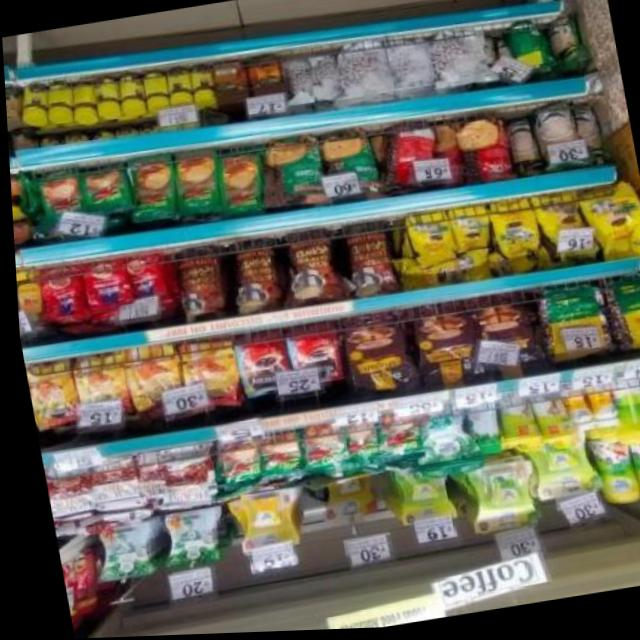Coffee: (118, 344, 181, 418), (174, 339, 238, 411), (278, 320, 341, 389), (68, 352, 127, 425), (228, 331, 288, 398), (20, 360, 75, 430)
